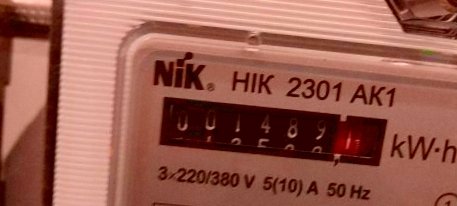0: (201, 104, 219, 130), (173, 106, 190, 132)
1: (229, 105, 246, 135), (340, 121, 355, 152)
4: (256, 109, 274, 136)
8: (282, 111, 301, 139)
9: (311, 115, 328, 141)
screen: (142, 83, 403, 180)
